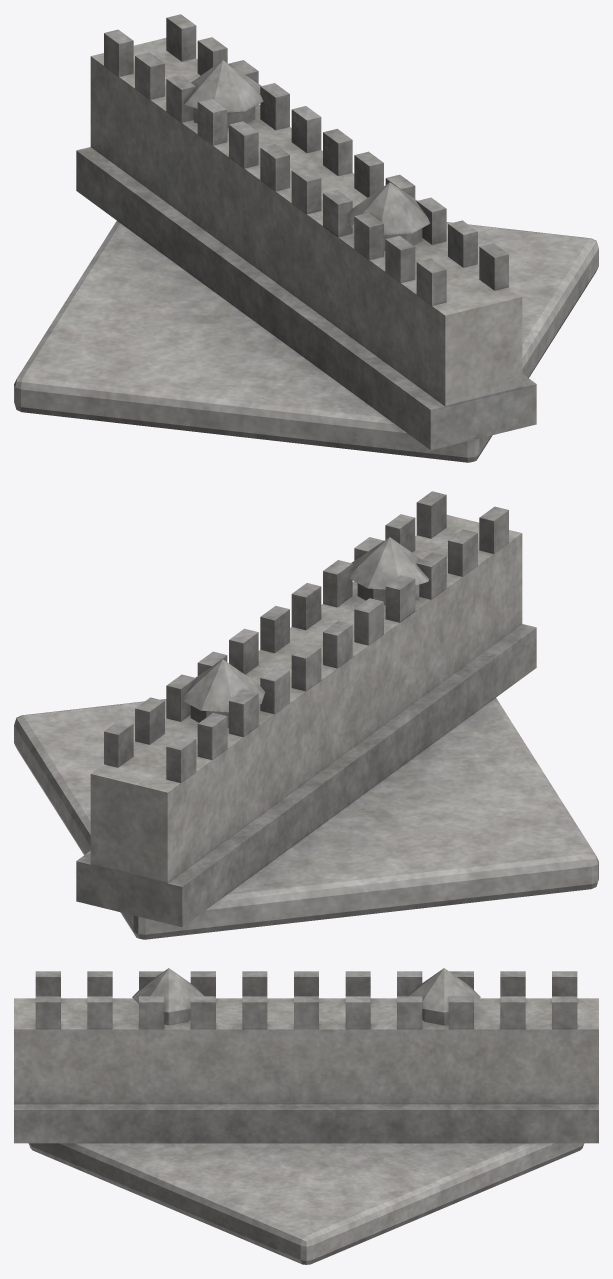
Rendered from wall_b.glb.
3 views of the same model, one above another, from view 1: azimuth 30°, elevation 25°; view 2: azimuth 150°, elevation 25°; view 3: azimuth 270°, elevation 25° (orthographic). The views are drawn at different scales.
Parts seen in each view (by area): view 1: dilek; view 2: dilek; view 3: dilek.
Part boxes in pixels (<box>): dilek: <box>14,14,598,462</box>; dilek: <box>14,491,598,939</box>; dilek: <box>14,968,598,1264</box>.
Bounding box in the file's own units: 2.42 × 0.88 × 2.55.
1 material, 1 textured.
